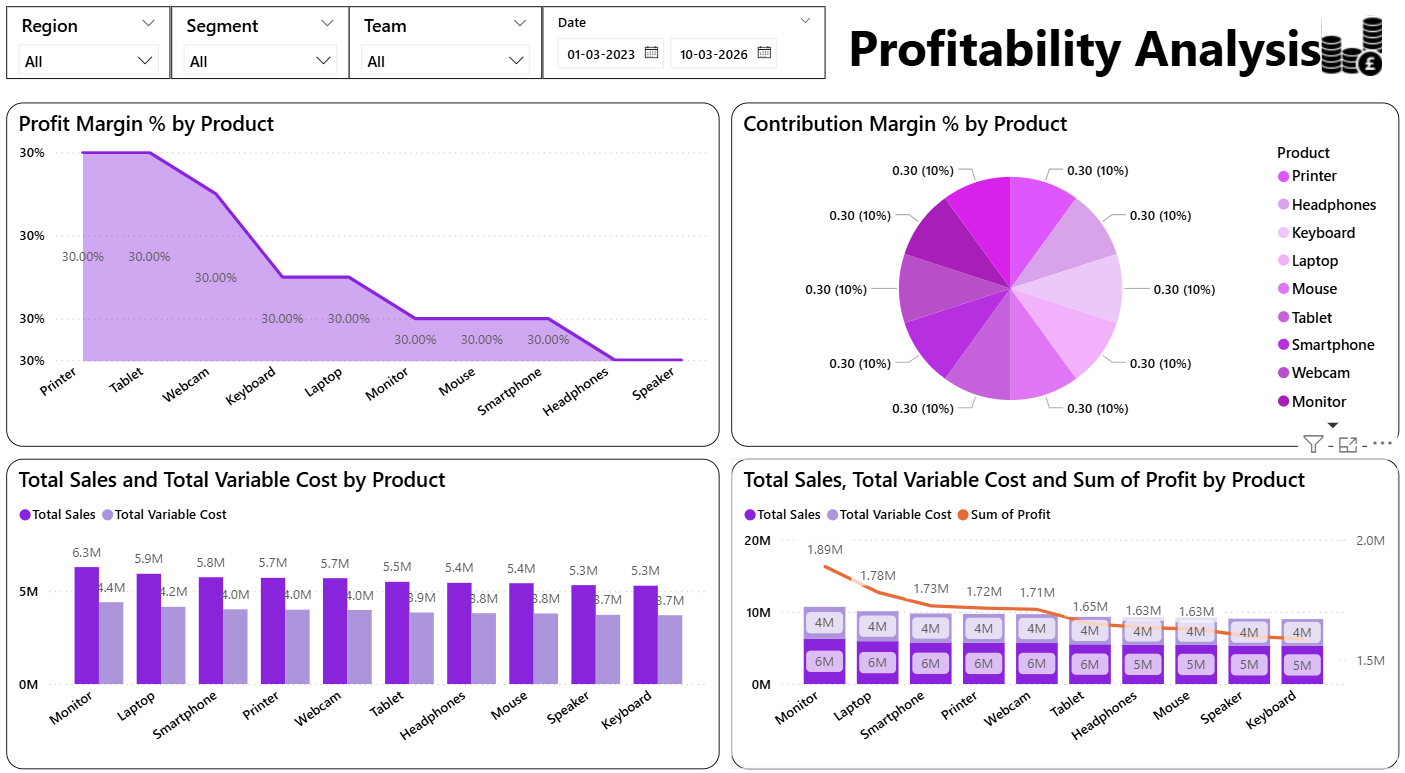

Layout of this report page (visuals, bound fields, positions):
{"tool":"powerbi","page":{"name":"Profit ability Analysis","canvas":[1280,720],"ordinal":7},"visuals":[{"type":"stackedAreaChart","fields":{"Category":["SalesData.Product"],"Y":["_All Measures.Profit Margin %"]},"box":[15.1,105.7,643.6,310.1],"z":0},{"type":"pieChart","fields":{"Y":["_All Measures.Contribution Margin %"],"Category":["SalesData.Product"]},"box":[668.3,105.7,602.4,310.1],"z":1000},{"type":"clusteredColumnChart","fields":{"Category":["SalesData.Product"],"Y":["_All Measures.Total Sales","_All Measures.Total Variable Cost"]},"box":[15.1,426.8,643.6,279.9],"z":2000},{"type":"lineStackedColumnComboChart","fields":{"Category":["SalesData.Product"],"Y":["_All Measures.Total Sales","_All Measures.Total Variable Cost"],"Y2":["Sum(SalesData.Profit)"]},"box":[668.3,426.8,602.4,279.9],"z":3000},{"type":"slicer","fields":{"Values":["SalesData.Region"]},"box":[15.1,19.2,148.2,65.9],"z":4000},{"type":"slicer","fields":{"Values":["SalesData.Segment"]},"box":[163.3,19.2,160.5,65.9],"z":5000},{"type":"slicer","fields":{"Values":["SalesData.Team"]},"box":[323.8,19.2,174.3,65.9],"z":6000},{"type":"slicer","fields":{"Values":["Calender.Date"]},"box":[498.1,19.2,255.2,65.9],"z":7000},{"type":"actionButton","box":[625.7,0,634,109.8],"z":8000}]}

Visuals, with their boxes in screenshot pixels (x1, y1, x2, y2), scaled from the page's 1280x720 canvas onto the 1405x773 screenshot:
stackedAreaChart - SalesData.Product x _All Measures.Profit Margin %: box=[17, 113, 723, 446]
pieChart - _All Measures.Contribution Margin % x SalesData.Product: box=[734, 113, 1395, 446]
clusteredColumnChart - SalesData.Product x _All Measures.Total Sales: box=[17, 458, 723, 759]
lineStackedColumnComboChart - SalesData.Product x _All Measures.Total Sales: box=[734, 458, 1395, 759]
slicer - SalesData.Region: box=[17, 21, 179, 91]
slicer - SalesData.Segment: box=[179, 21, 355, 91]
slicer - SalesData.Team: box=[355, 21, 547, 91]
slicer - Calender.Date: box=[547, 21, 827, 91]
actionButton: box=[687, 0, 1383, 118]
